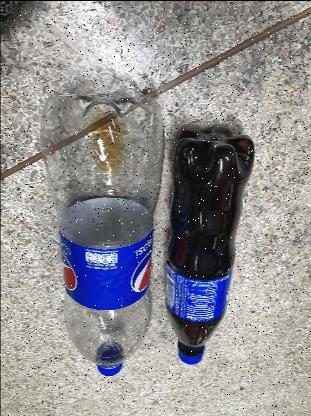Plastic Bottle: (34, 74, 162, 388), (162, 119, 262, 378)
